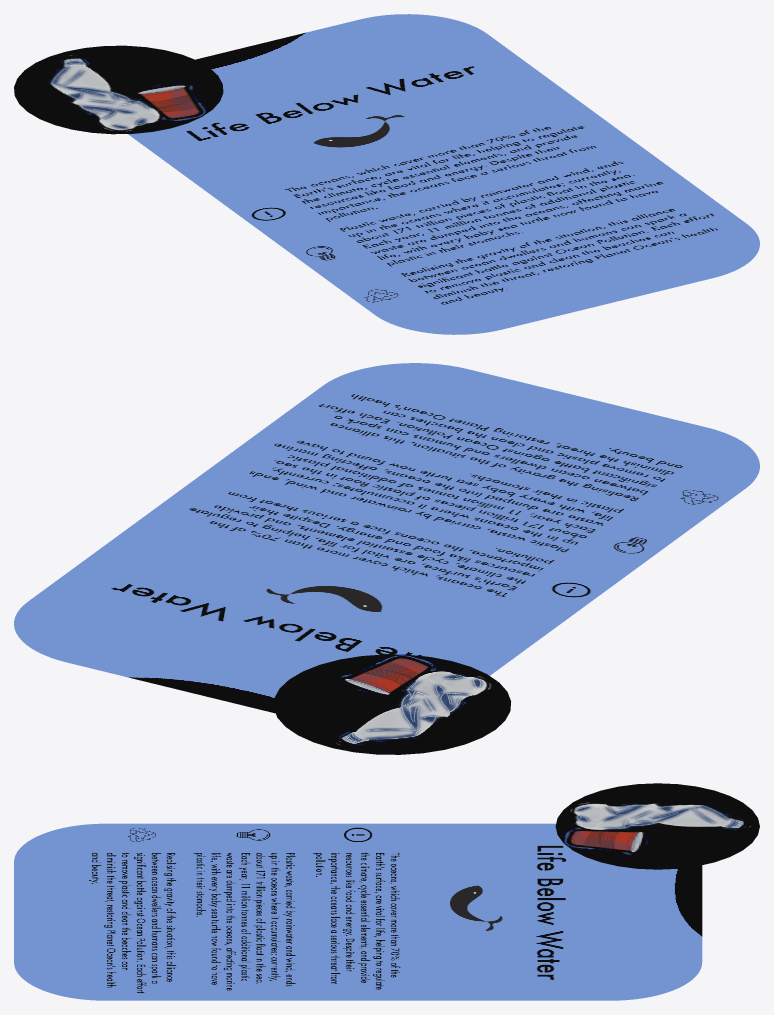
File: OceanText.glb
3 renders of one model, top to bottom at view 1: azimuth 30°, elevation 25°; view 2: azimuth 150°, elevation 25°; view 3: azimuth 270°, elevation 25°, orthographic. The views are drawn at different scales.
Visible parts, largest first — view 1: OceanText; view 2: OceanText; view 3: OceanText.
Part boxes in pixels (bbox=[...]): OceanText: bbox=[14, 14, 759, 334]; OceanText: bbox=[14, 363, 759, 754]; OceanText: bbox=[14, 783, 759, 1000].
Size of the model in its own units: 2.34 by 0.0544 by 3.56.
2 materials, 2 textured.
